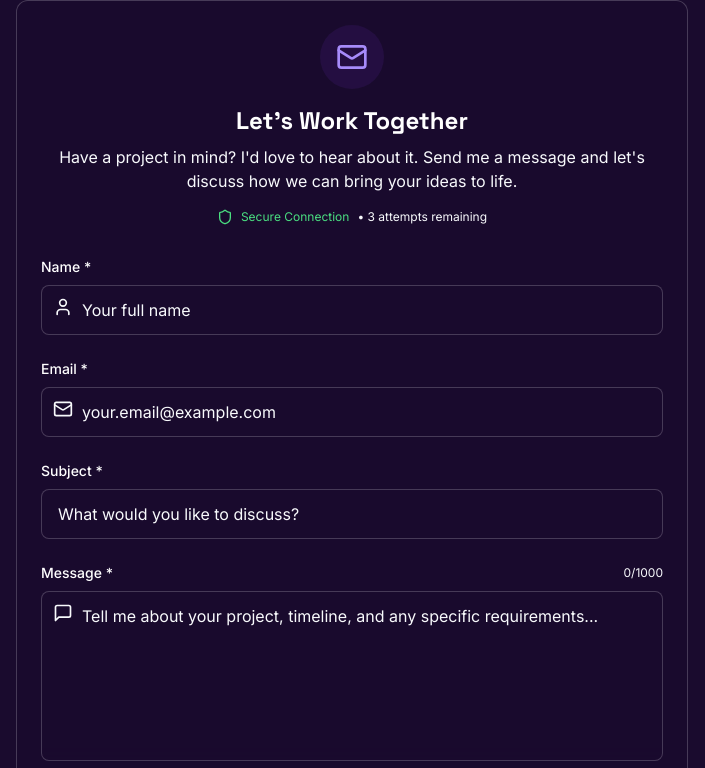
Scenario: ContactForm Component › shows character count for message field
The image size is (705, 768).
expect the text "0/1000" is shown: met, box top-left (624, 565), bottom-right (663, 581)
# Type some text
In the text box labelled "Message *": (352, 676) top-left (41, 591), bottom-right (663, 761), type "Hello world!"
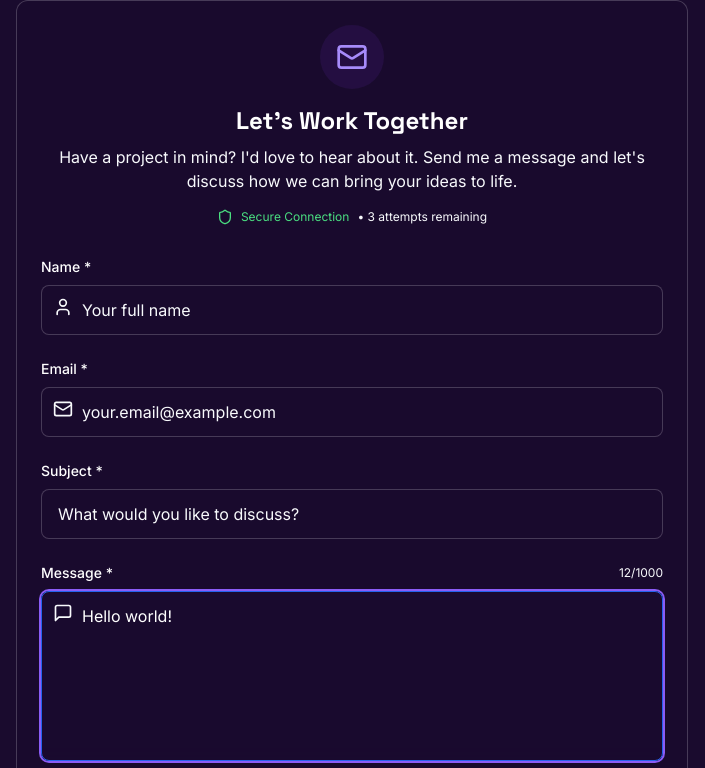
expect the text "12/1000" is shown: met, box top-left (619, 565), bottom-right (663, 581)
